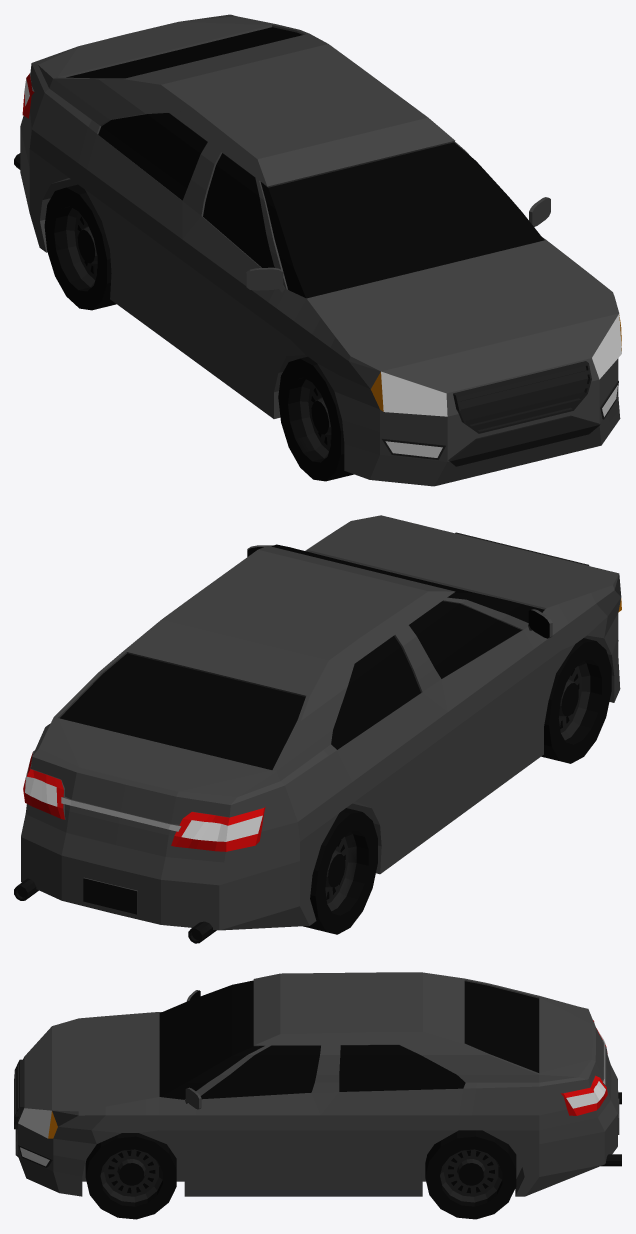
Rendered from SM_sedan.FBX.
The picture shows the model from 3 angles, top to bottom: view 1: azimuth 30°, elevation 25°; view 2: azimuth 150°, elevation 25°; view 3: azimuth 270°, elevation 25°; orthographic projection. The views are drawn at different scales.
Visible parts, largest first — view 1: FordTaurus; view 2: FordTaurus; view 3: FordTaurus.
Part boxes in pixels (box(x1,y1,x2,y2)): FordTaurus: box(14, 14, 621, 486); FordTaurus: box(14, 515, 621, 943); FordTaurus: box(14, 972, 621, 1219).
Bounding box in the file's own units: 173 × 126 × 410.
